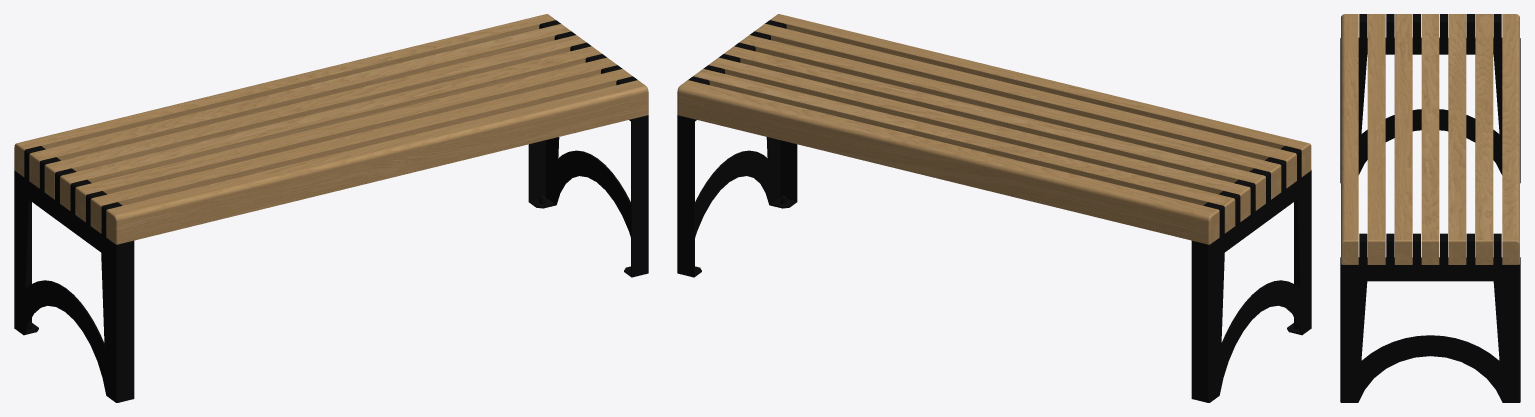
Rendered from bench-transformed.glb.
3 views of the same model, side by side, from view 1: azimuth 30°, elevation 25°; view 2: azimuth 150°, elevation 25°; view 3: azimuth 270°, elevation 25° (orthographic). The views are drawn at different scales.
Visible parts, largest first — view 1: object 3, Bench_RAL_9005.003_0; view 2: object 3, Bench_RAL_9005.003_0; view 3: object 3, Bench_RAL_9005.003_0.
Part boxes in pixels (bbox=[...]): object 3: bbox=[14, 14, 648, 244]; Bench_RAL_9005.003_0: bbox=[14, 20, 648, 402]; object 3: bbox=[677, 14, 1311, 244]; Bench_RAL_9005.003_0: bbox=[677, 20, 1311, 402]; object 3: bbox=[1341, 14, 1519, 264]; Bench_RAL_9005.003_0: bbox=[1340, 14, 1520, 402].
Size of the model in its own units: 1.2 by 0.4 by 0.402.
3 materials, 1 textured.
